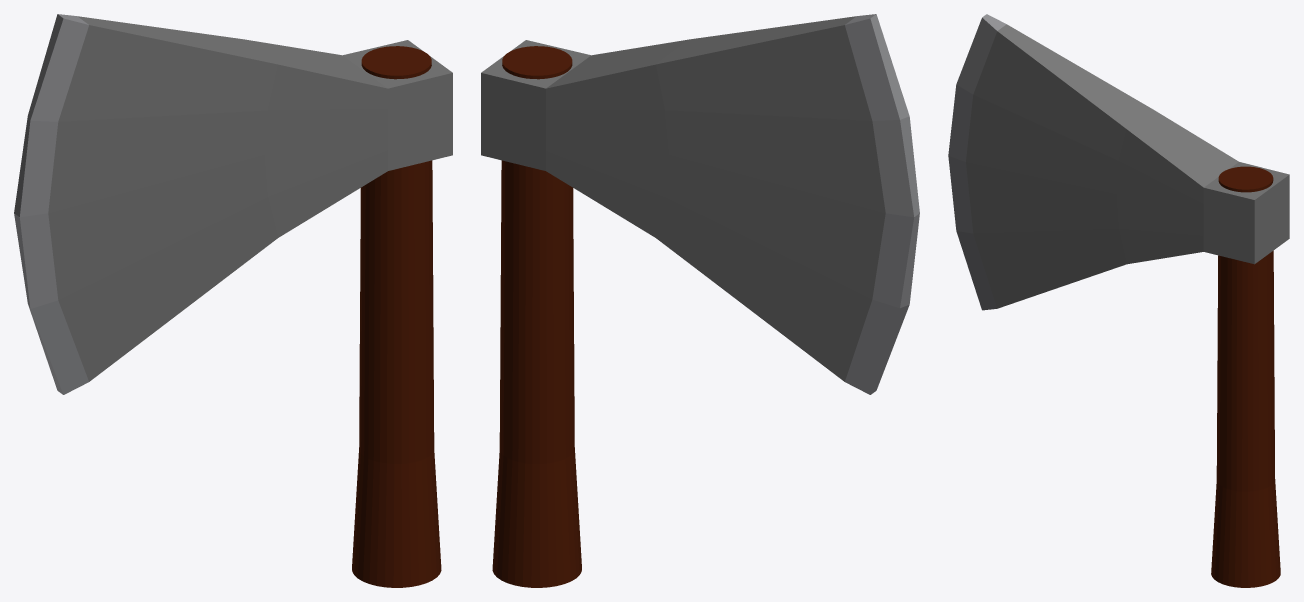
Rendered from Axe.fbx.
The picture shows the model from 3 angles, left to right: view 1: azimuth 30°, elevation 25°; view 2: azimuth 150°, elevation 25°; view 3: azimuth 330°, elevation 25°; orthographic projection. The views are drawn at different scales.
Parts seen in each view (by area): view 1: Cube, Cylinder, Cube.002, Cube.001; view 2: Cube, Cylinder, Cube.002, Cube.001; view 3: Cube, Cylinder, Cube.001, Cube.002.
Boxes of the visible parts, x1=… form: Cube: x1=48, y1=16, x2=387, y2=381; Cylinder: x1=352, y1=46, x2=441, y2=587; Cube.002: x1=14, y1=14, x2=88, y2=394; Cube.001: x1=343, y1=40, x2=452, y2=170; Cube: x1=546, y1=16, x2=885, y2=381; Cylinder: x1=492, y1=46, x2=581, y2=587; Cube.002: x1=845, y1=14, x2=919, y2=394; Cube.001: x1=481, y1=40, x2=590, y2=170; Cube: x1=966, y1=24, x2=1238, y2=308; Cylinder: x1=1211, y1=166, x2=1280, y2=587; Cube.001: x1=1203, y1=162, x2=1289, y2=264; Cube.002: x1=948, y1=14, x2=1006, y2=310.
Bounding box in the file's own units: 247 × 359 × 46.62.
